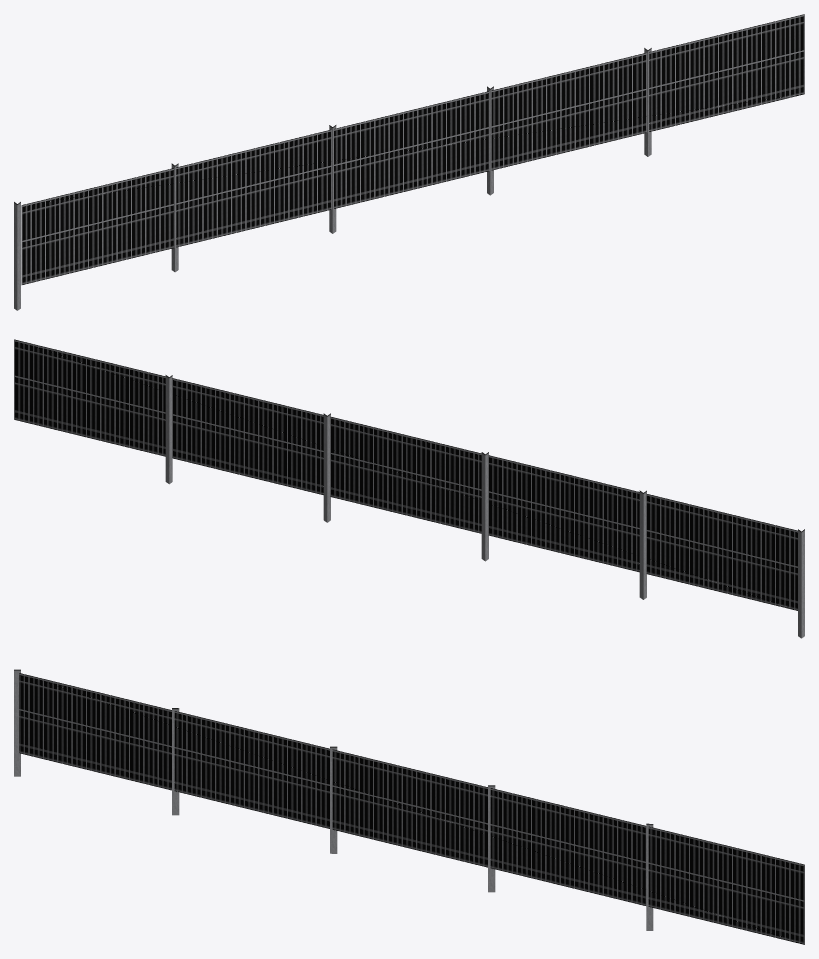
Rendered from fence-mesh-grey-5s-cbj_LOD02.gltf.
3 views of the same model, one above another, from view 1: azimuth 30°, elevation 25°; view 2: azimuth 150°, elevation 25°; view 3: azimuth 330°, elevation 25° (orthographic).
Parts seen in each view (by area): view 1: post.001; view 2: post.001; view 3: post.001.
Boxes of the visible parts, x1,y1,x2,y2 form: post.001: [14, 14, 804, 310]; post.001: [14, 339, 804, 638]; post.001: [14, 669, 804, 944].
Size of what is drawn, in the model's own units: 12.35 by 1.6 by 0.0932.
